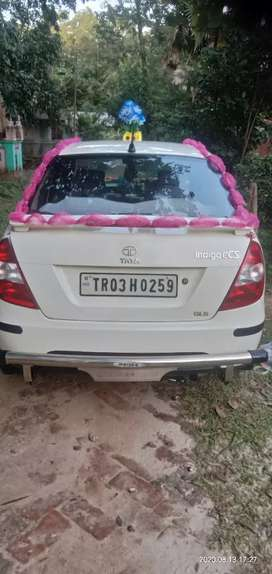TR03H0259: (80, 274, 178, 296)
